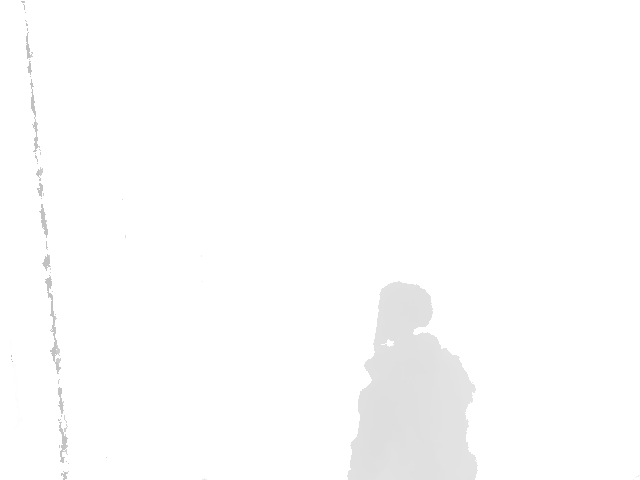head: (372, 281, 435, 356)
person: (346, 281, 479, 480)
